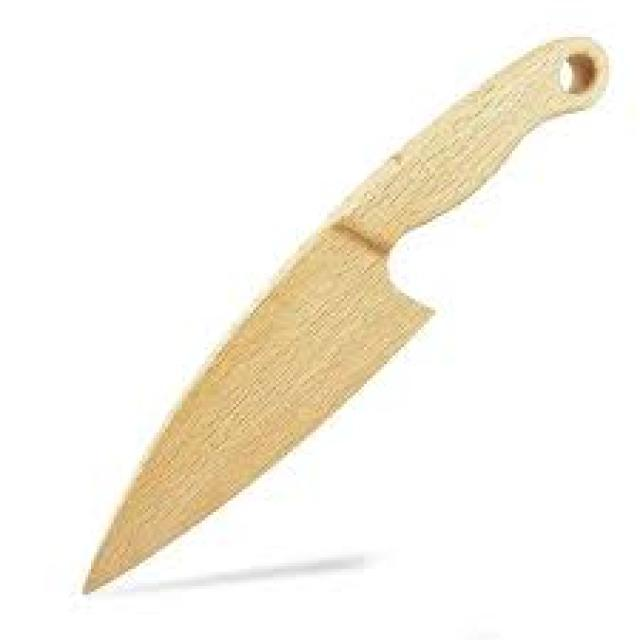Knife: (80, 32, 608, 594)
